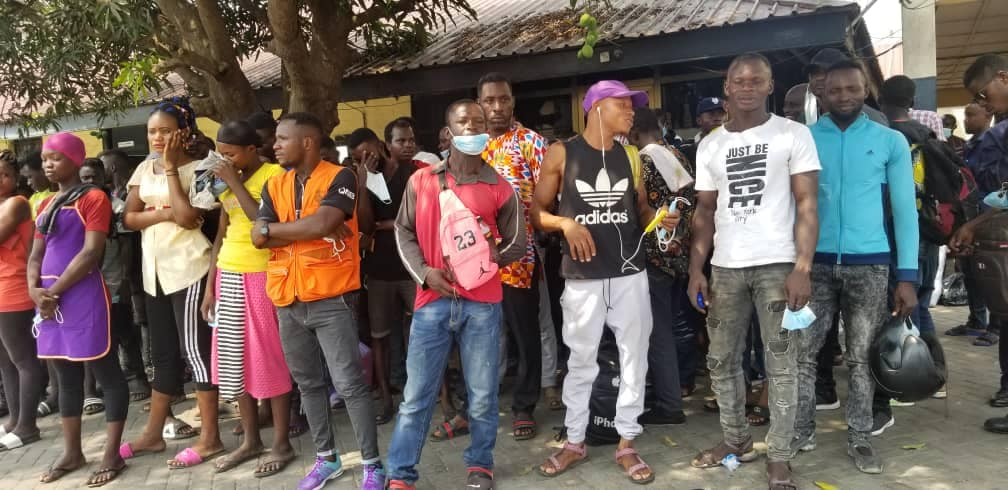with_incorrect_mask: (451, 105, 487, 151)
without_mask: (824, 71, 870, 119), (728, 64, 769, 110), (267, 125, 303, 165), (607, 95, 638, 138), (483, 83, 511, 129), (38, 145, 68, 183), (143, 122, 177, 151), (391, 126, 418, 162)
